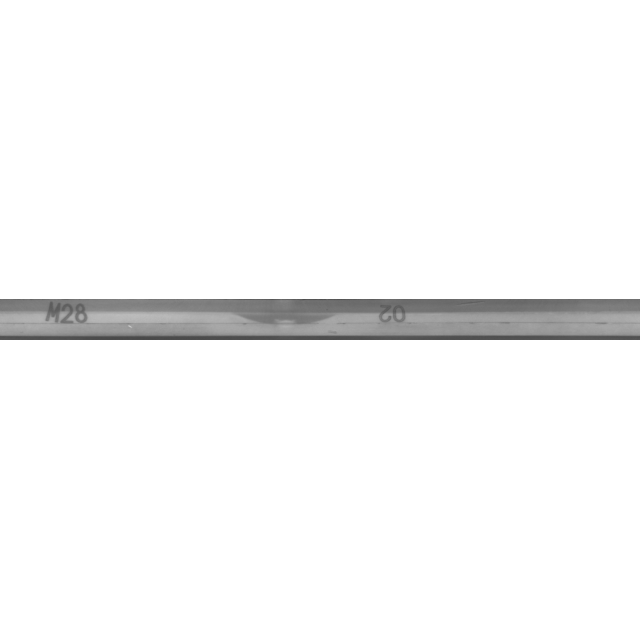mohao: (0, 270, 166, 370)
xuehao: (289, 270, 489, 370)
